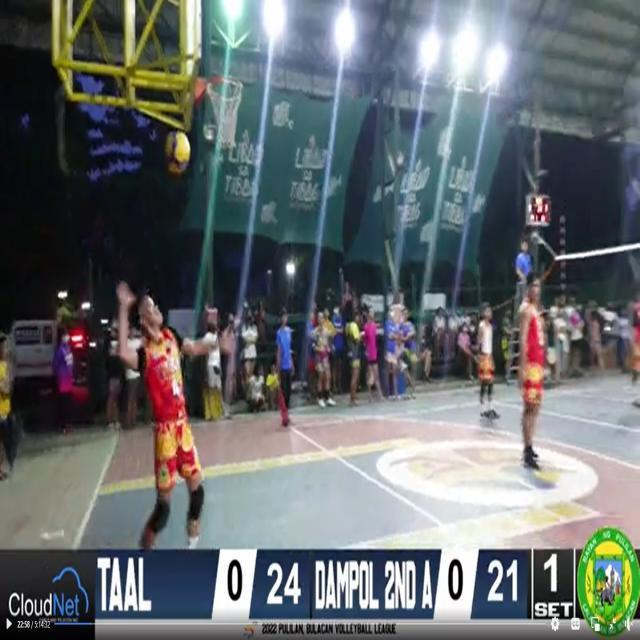volleyball: (164, 130, 190, 172)
